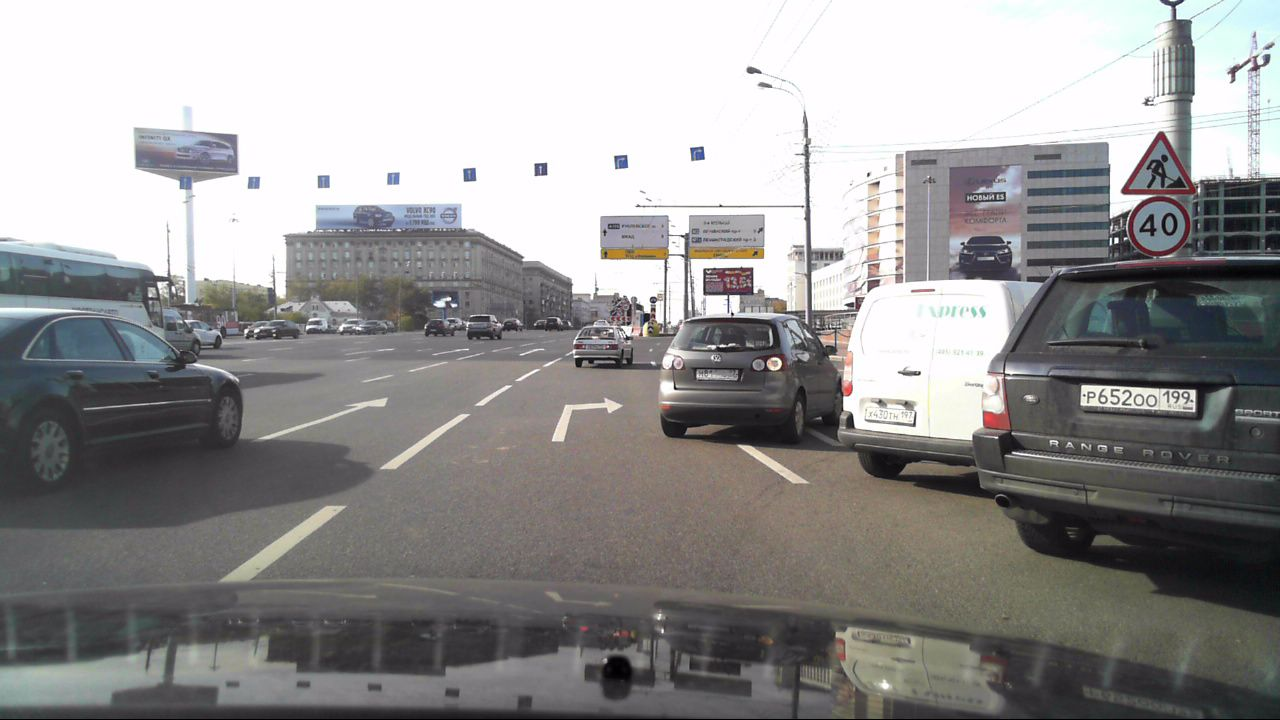speed_warning_40: (1125, 195, 1193, 259)
